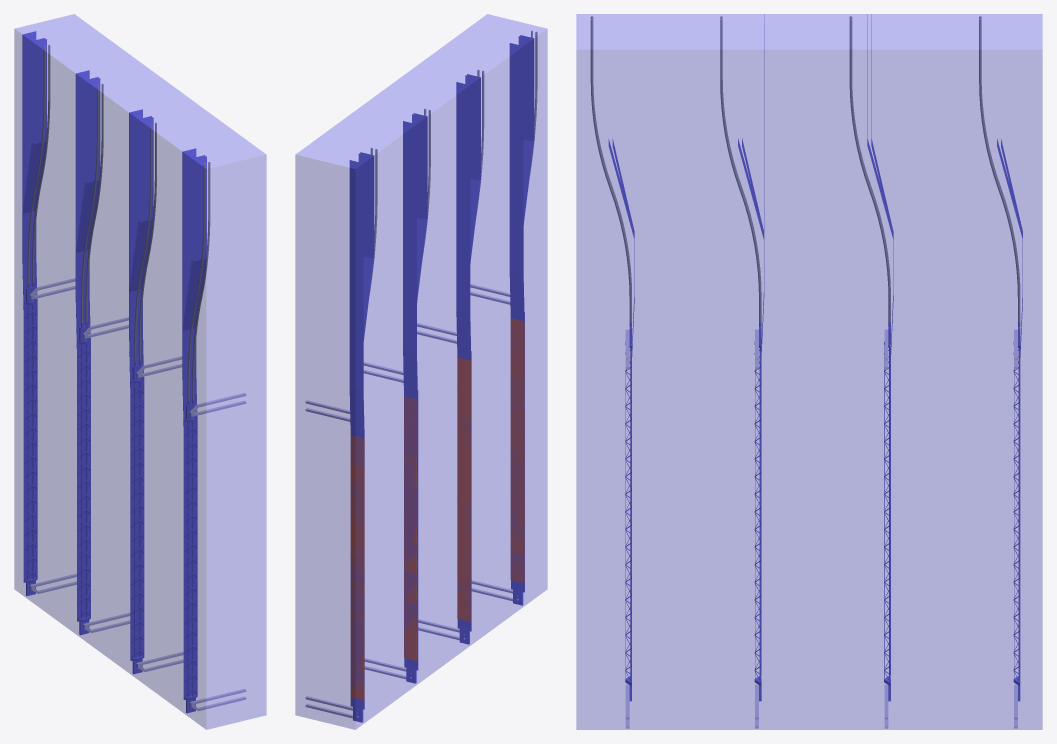
File: OPPPTracker.gltf
The picture shows the model from 3 angles, left to right: view 1: azimuth 30°, elevation 25°; view 2: azimuth 150°, elevation 25°; view 3: azimuth 270°, elevation 25°; orthographic projection. The views are drawn at different scales.
Parts seen in each view (by area): view 1: OPPPTrackerL0x227dc20, logicColdPlate_pv0x22556e0 (×4), logicInServFlatCblSec20_pv0x2265790 (×4), logicInServFlatCblSec32_pv0x2265870 (×4), logicInServFlatCblSec22_pv0x2265800 (×4), logicInServFlatCblSec1_pv0x2265758 (×4), logicTrkCoolPipe_pv0x2255670 (×3), logicTrussBar_pv0x2255638 (×2), logicTrkCoolPipe_pv0x22556a8 (×2), logicStaveHolder_pv0x225a580, logicStaveHolder_pv0x225a5b8; view 2: OPPPTrackerL0x227dc20, logicInServFlatCblSec20_pv0x2265790 (×4), logicInServFlatCblSec31_pv0x2265838 (×4), logicInServFlatCblSec1_pv0x2265758 (×4), logicInServFlatCblSec0_pv0x2265720 (×4), OPPPSensorFlex0x2296170, OPPPSensorFlex0x22812d0, logicInServFlatCblSec21_pv0x22657c8 (×3), OPPPSensorFlex0x227d980; view 3: OPPPTrackerL0x227dc20.
Boxes of the visible parts, x1,y1,x2,y2 form: OPPPTrackerL0x227dc20: (14,14,266,729); logicColdPlate_pv0x22556e0 (×4): (23,302,197,696); logicInServFlatCblSec20_pv0x2265790 (×4): (22,31,196,330); logicInServFlatCblSec32_pv0x2265870 (×4): (33,39,206,261); logicInServFlatCblSec22_pv0x2265800 (×4): (22,141,205,330); logicInServFlatCblSec1_pv0x2265758 (×4): (22,211,196,379); logicTrkCoolPipe_pv0x2255670 (×3): (27,305,188,696); logicTrussBar_pv0x2255638 (×2): (32,305,193,697); logicTrkCoolPipe_pv0x22556a8 (×2): (33,305,87,616); logicStaveHolder_pv0x225a580: (189,393,246,416); logicStaveHolder_pv0x225a5b8: (189,688,246,710); OPPPTrackerL0x227dc20: (295,14,547,729); logicInServFlatCblSec20_pv0x2265790 (×4): (349,43,523,342); logicInServFlatCblSec31_pv0x2265838 (×4): (358,36,532,258); logicInServFlatCblSec1_pv0x2265758 (×4): (349,222,523,390); logicInServFlatCblSec0_pv0x2265720 (×4): (349,271,524,438); OPPPSensorFlex0x2296170: (404,396,417,658); OPPPSensorFlex0x22812d0: (351,436,364,696); logicInServFlatCblSec21_pv0x22657c8 (×3): (363,139,532,340); OPPPSensorFlex0x227d980: (511,338,523,582); OPPPTrackerL0x227dc20: (576,14,1042,729).
Size of the model in its own units: 6.5 by 58 by 36.
